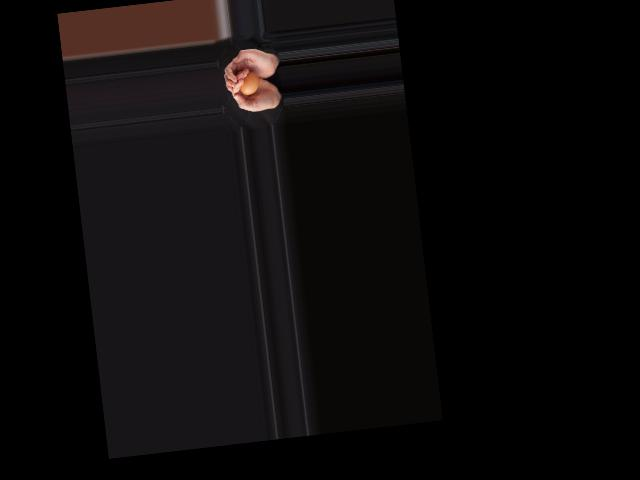egg: (238, 69, 260, 95)
